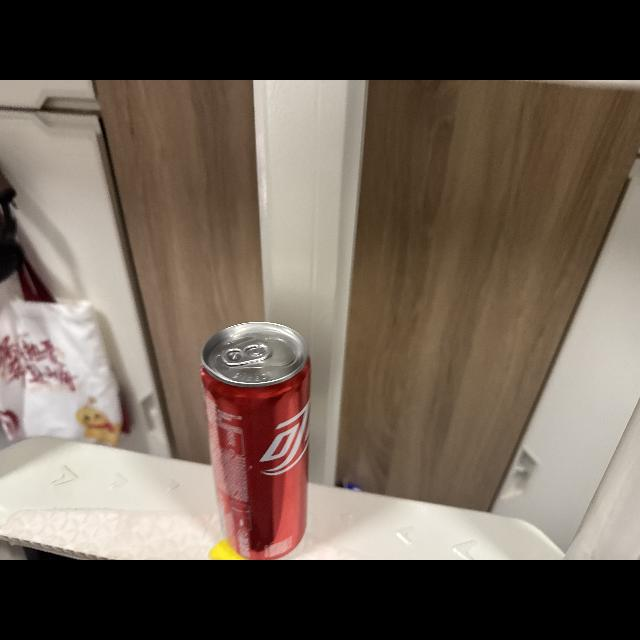Cola: (196, 320, 320, 558)
